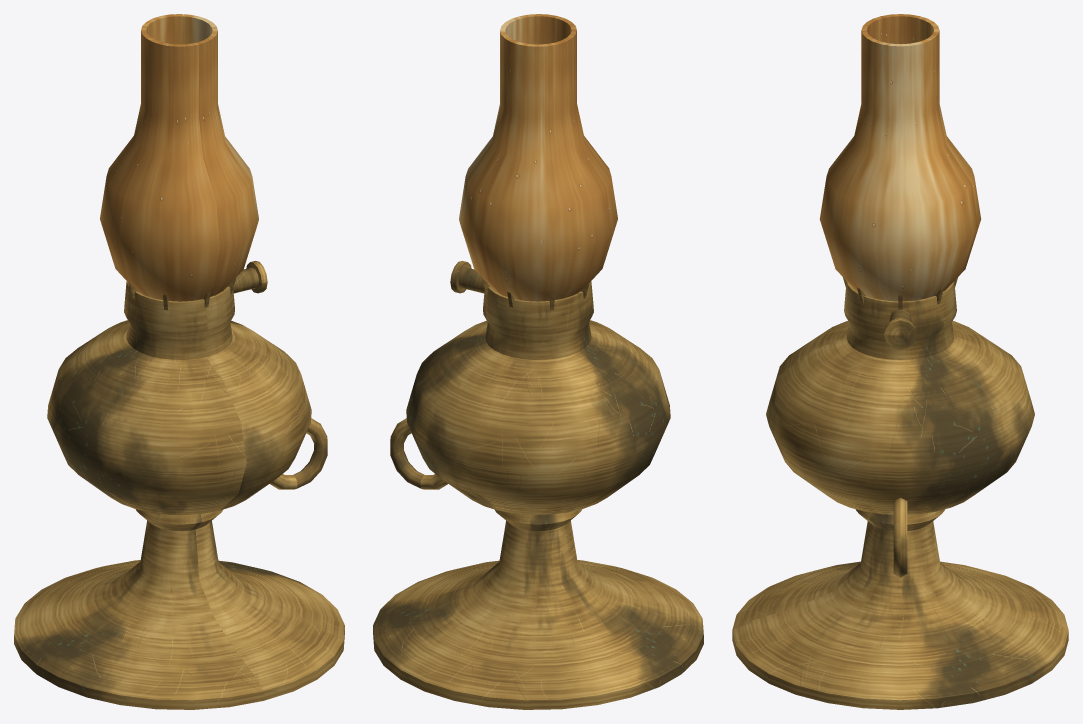
File: bed_lamp.obj
3 views of the same model, side by side, from view 1: azimuth 30°, elevation 25°; view 2: azimuth 150°, elevation 25°; view 3: azimuth 270°, elevation 25° (orthographic).
Visible parts, largest first — view 1: bed_lamp_brass, bed_lamp_glass_glow; view 2: bed_lamp_brass, bed_lamp_glass_glow; view 3: bed_lamp_brass, bed_lamp_glass_glow.
Boxes of the visible parts, x1,y1,x2,y2 form: bed_lamp_brass: [14, 261, 344, 709]; bed_lamp_glass_glow: [100, 14, 258, 301]; bed_lamp_brass: [373, 261, 703, 709]; bed_lamp_glass_glow: [459, 14, 617, 301]; bed_lamp_brass: [732, 277, 1068, 709]; bed_lamp_glass_glow: [819, 14, 981, 301].
Size of the model in its own units: 0.25 by 0.5 by 0.25.
3 materials, 3 textured.
